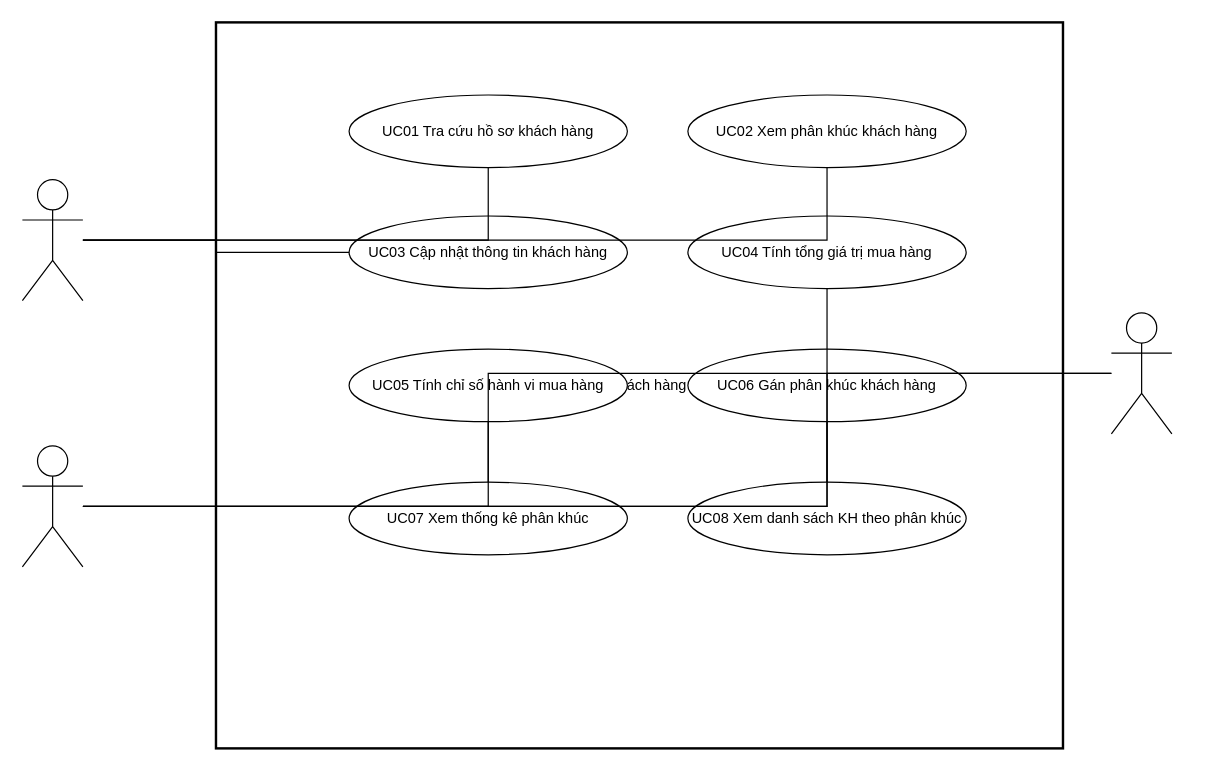
The diagram is 1220 pixels wide and 770 high, and some of its shapes have lost their labels. The shapes that lost their labels are listed below. From the top down, each one's centre as x and y in pixels, then its label:
(x=52, y=239): Sales
(x=1141, y=373): Quản lý cửa hàng
(x=52, y=506): Marketing
